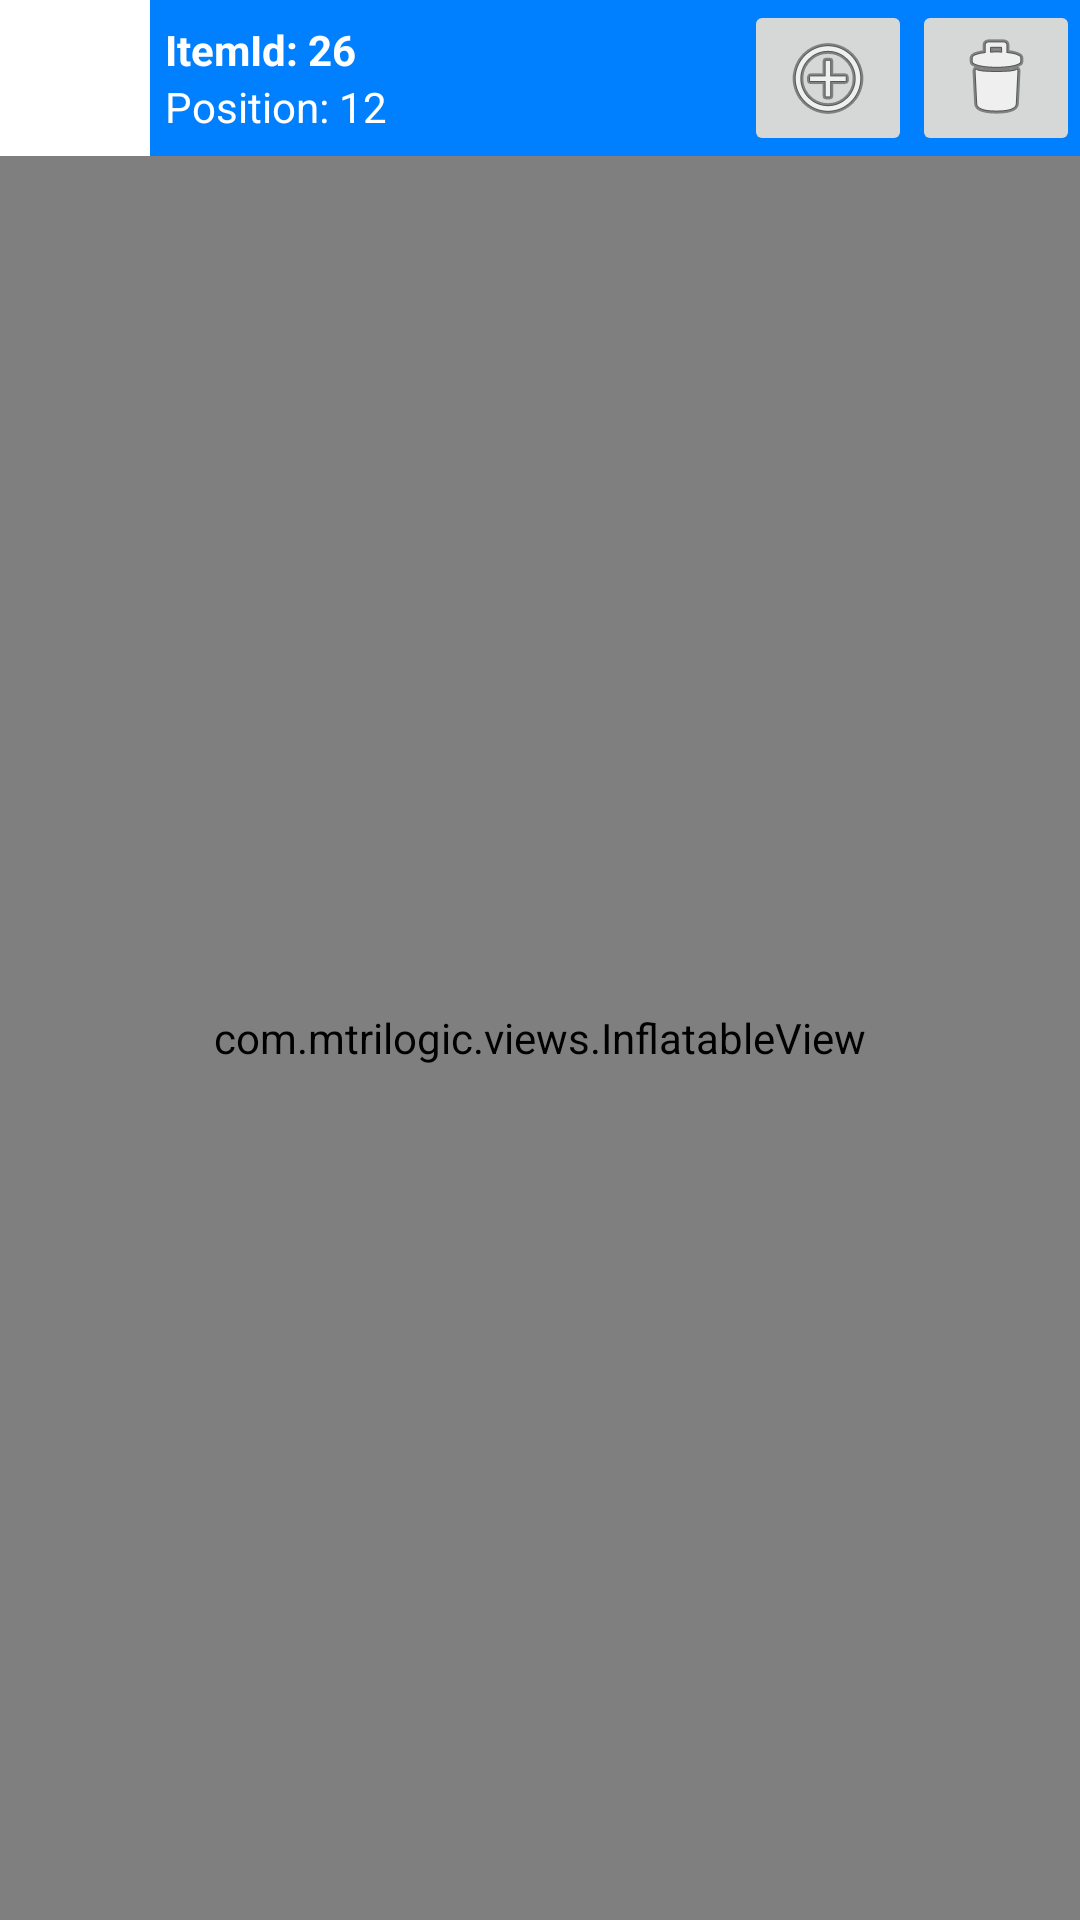

Screen size 1080px×1920px. Icon name, then its center in pixels as point (x, y):
add: point (828, 78)
delete: point (996, 78)
